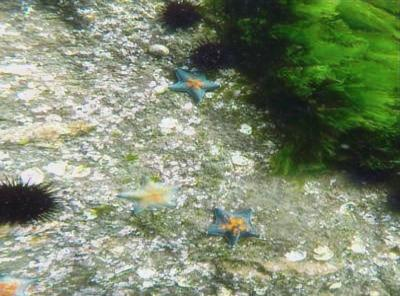urchin: (0, 176, 60, 228), (155, 0, 206, 32)
